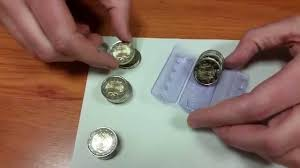eur002: (85, 127, 119, 158), (193, 57, 222, 87), (100, 75, 130, 102), (108, 40, 136, 65)
